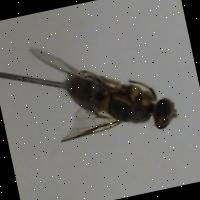Oriental-fruit-fly: (17, 10, 186, 158)
